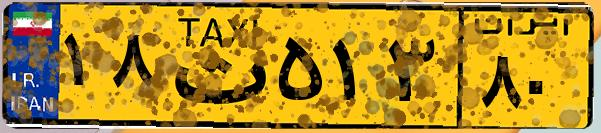0: (525, 38, 570, 115)
1: (330, 28, 385, 110), (57, 26, 110, 100)
3: (385, 28, 445, 110)
5: (270, 28, 330, 110)
8: (475, 38, 525, 113), (110, 28, 158, 98)
ت: (158, 12, 270, 120)
